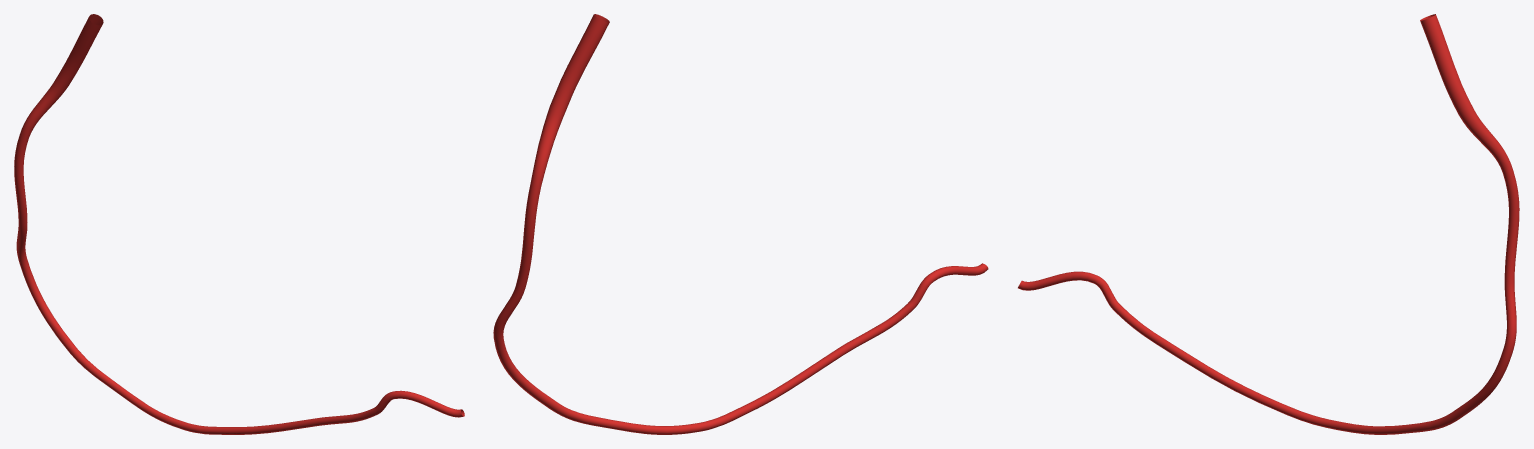
File: circulatorio-internal-pudendal-vein-l.glb
3 views of the same model, side by side, from view 1: azimuth 90°, elevation 25°; view 2: azimuth 150°, elevation 25°; view 3: azimuth 270°, elevation 25° (orthographic). The views are drawn at different scales.
Visible parts, largest first — view 1: Internal pudendal vein.l; view 2: Internal pudendal vein.l; view 3: Internal pudendal vein.l.
Boxes of the visible parts, box(x1,y1,x2,y2) form: Internal pudendal vein.l: box(14, 14, 464, 434); Internal pudendal vein.l: box(493, 14, 988, 434); Internal pudendal vein.l: box(1018, 14, 1519, 434).
Size of the model in its own units: 0.0514 by 0.0875 by 0.091.
